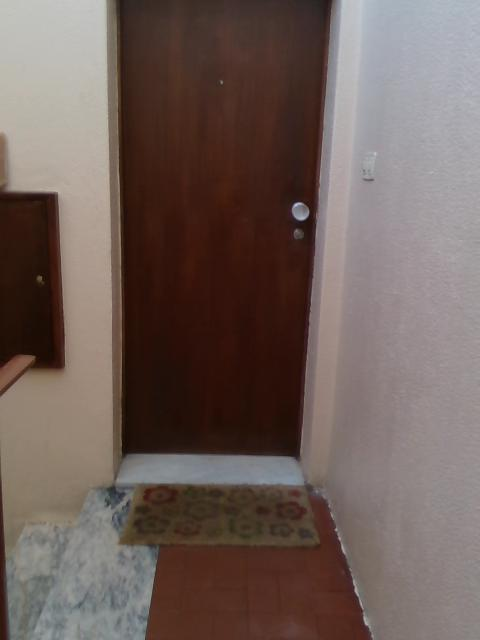door: (120, 1, 332, 453)
